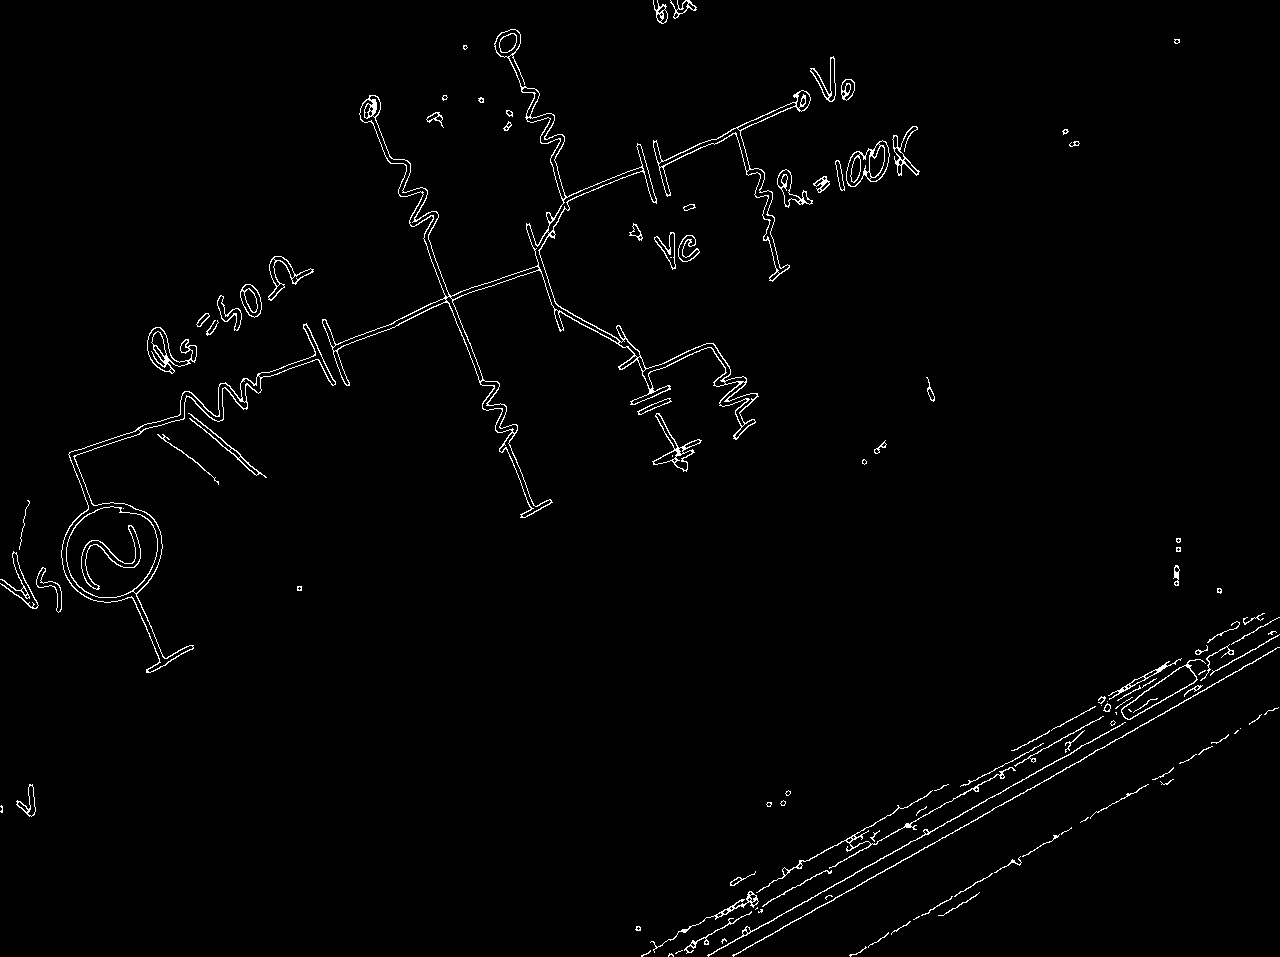capacitor: (298, 306, 354, 401), (628, 133, 691, 205), (624, 382, 680, 422)
ground0: (649, 434, 717, 510)
ground2: (138, 640, 206, 706), (728, 411, 767, 479), (513, 492, 562, 544), (764, 258, 808, 315)
resistor: (161, 367, 285, 428), (381, 138, 442, 255), (511, 67, 570, 174), (470, 353, 524, 465), (740, 146, 781, 250), (710, 351, 763, 422)
signal: (58, 492, 166, 611)
